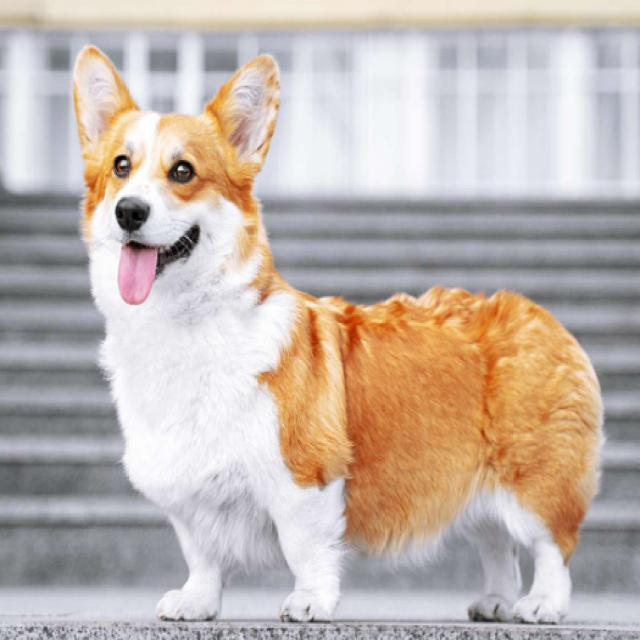Corgi: (71, 43, 602, 627)
